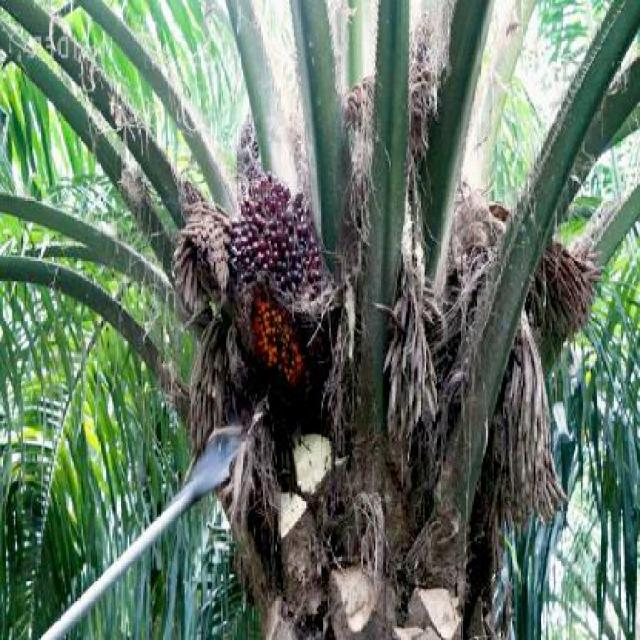palm-oil: (218, 167, 353, 407)
